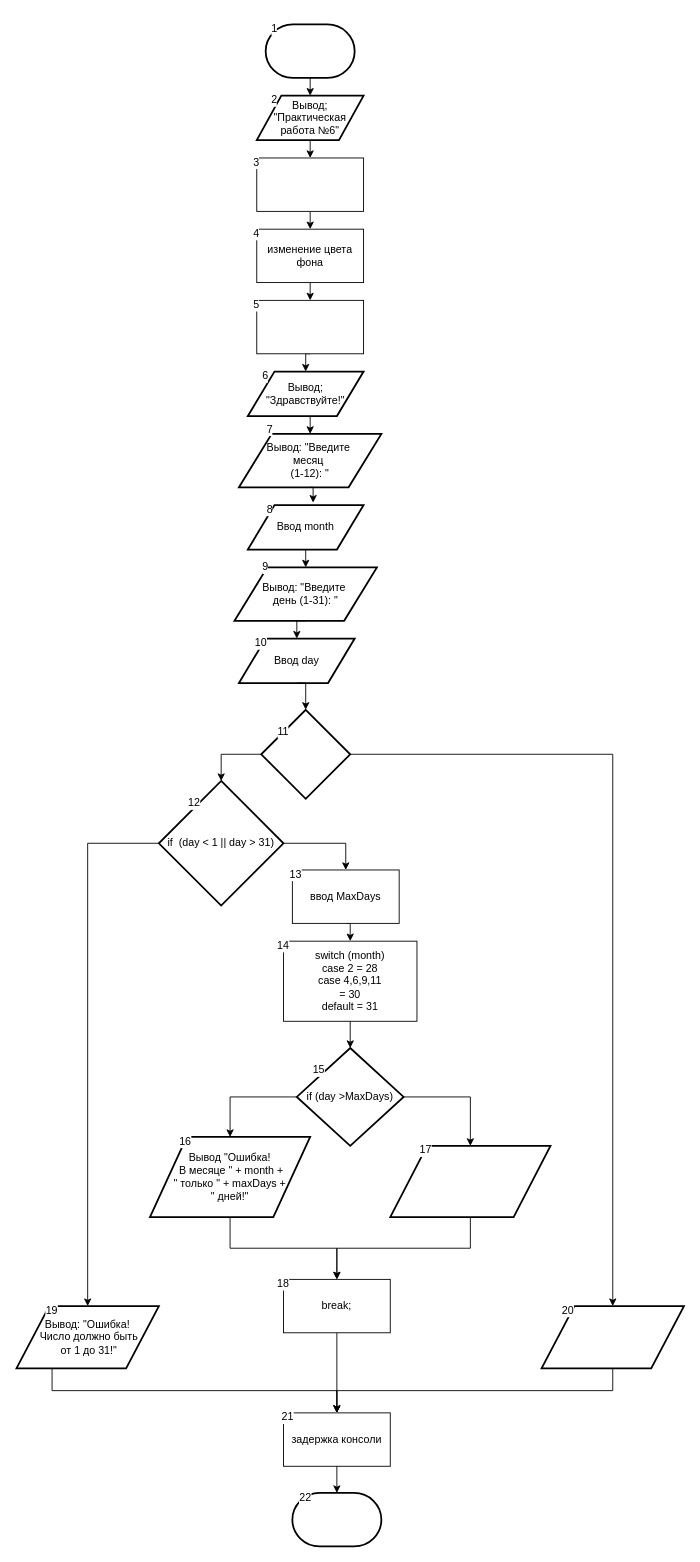
This 700x1562 diagram has some shape labels left out. The box of each missing label's shape, as (x1, y1, x2, y2) in pixels:
switch (month) case 1...12: (260, 708, 351, 799)
Вывод "Дата корректна " + day + "." + month: (389, 1145, 551, 1218)
Вывод: "Ошибка! месяц должен быть от 1 до 12!": (540, 1305, 684, 1369)
изменение цвета шрифта: (256, 157, 364, 211)
Конец: (291, 1492, 382, 1547)
Начало: (264, 23, 355, 78)
очистка мусора: (256, 299, 364, 354)
